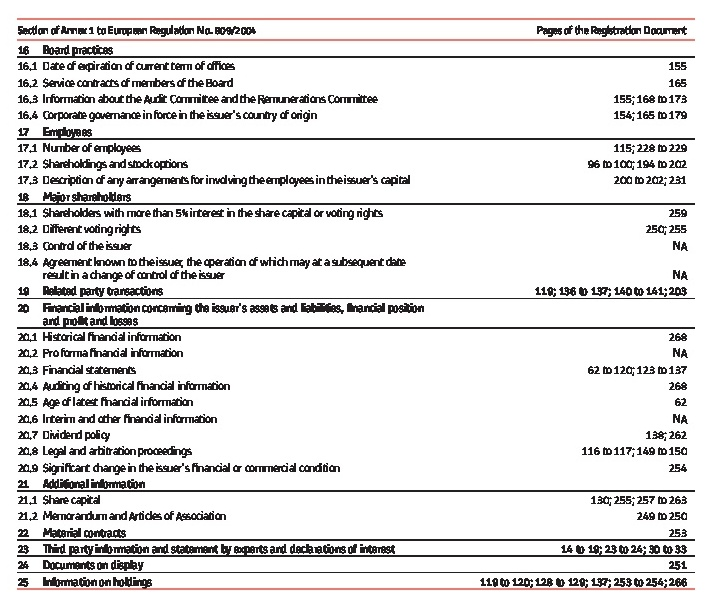table: (0, 0, 706, 607)
